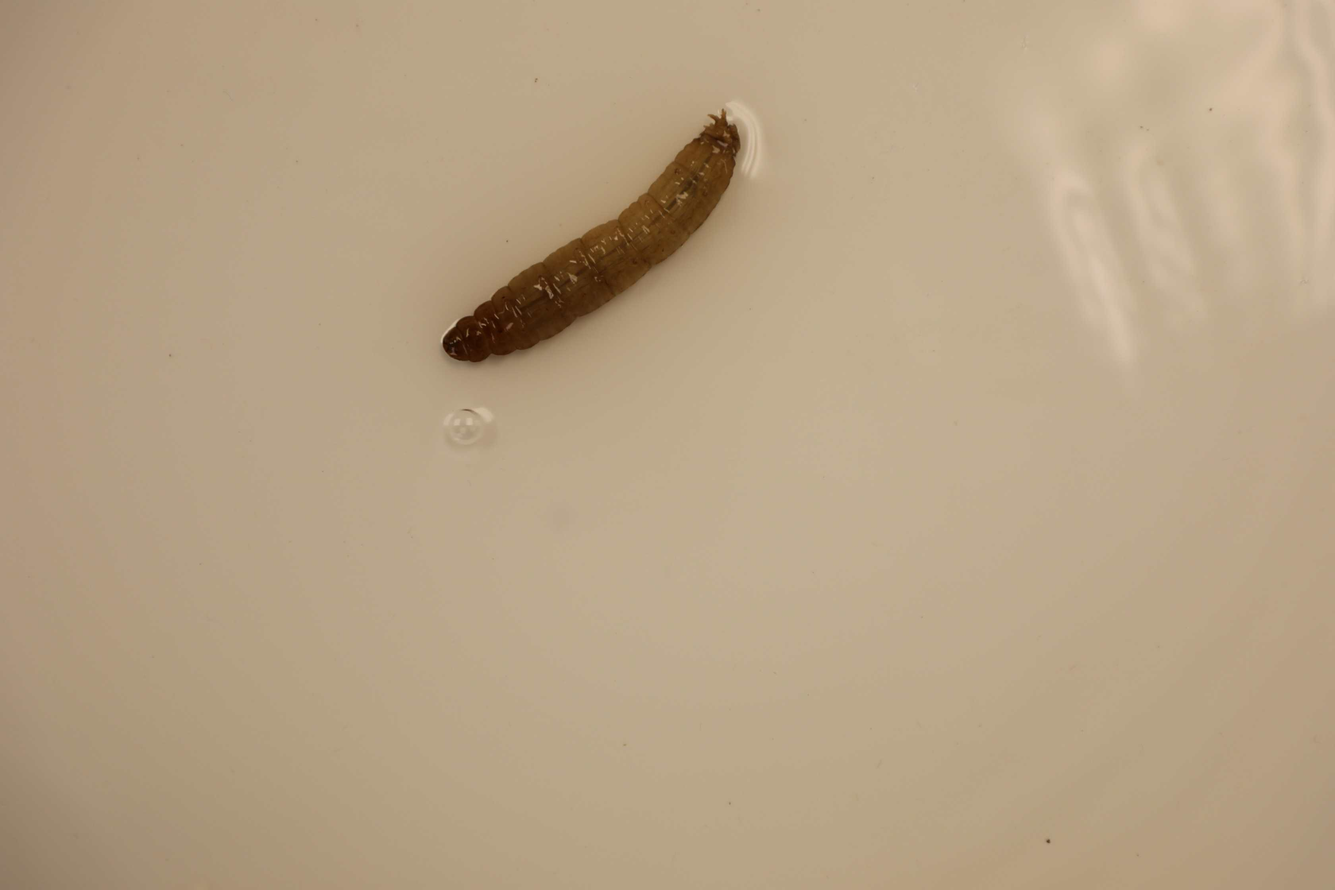Other: (441, 116, 743, 367)
